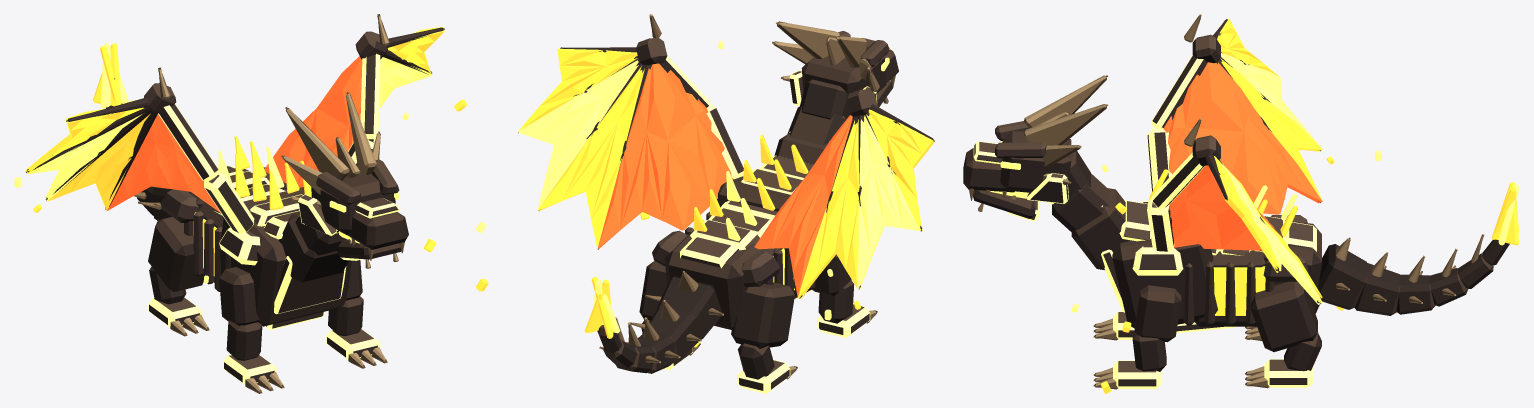
Rendered from BonefireDragon.fbx.
The picture shows the model from 3 angles, left to right: view 1: azimuth 30°, elevation 25°; view 2: azimuth 150°, elevation 25°; view 3: azimuth 270°, elevation 25°; orthographic projection. The views are drawn at different scales.
Visible parts, largest first — view 1: BonefireDragon_Body, BonefireDragon_Glow_ff7c21, BonefireDragon_Glow_cb4519, BonefireDragon_Glow_ffc450, BonefireDragon_Glow_ffb83f; view 2: BonefireDragon_Body, BonefireDragon_Glow_ff7c21, BonefireDragon_Glow_cb4519, BonefireDragon_Glow_ffb83f, BonefireDragon_Glow_ffc450; view 3: BonefireDragon_Body, BonefireDragon_Glow_cb4519, BonefireDragon_Glow_ff7c21, BonefireDragon_Glow_ffc450, BonefireDragon_Glow_ffb83f.
Boxes of the visible parts, x1,y1,x2,y2 form: BonefireDragon_Body: (26,14,444,393); BonefireDragon_Glow_ff7c21: (26,26,488,291); BonefireDragon_Glow_cb4519: (107,56,368,212); BonefireDragon_Glow_ffc450: (148,53,399,384); BonefireDragon_Glow_ffb83f: (14,43,486,283); BonefireDragon_Body: (518,14,934,390); BonefireDragon_Glow_ff7c21: (519,48,934,347); BonefireDragon_Glow_cb4519: (597,63,852,297); BonefireDragon_Glow_ffb83f: (517,41,920,333); BonefireDragon_Glow_ffc450: (663,37,889,393); BonefireDragon_Body: (963,14,1509,389); BonefireDragon_Glow_cb4519: (1163,62,1322,256); BonefireDragon_Glow_ff7c21: (1100,18,1518,393); BonefireDragon_Glow_ffc450: (973,55,1316,388); BonefireDragon_Glow_ffb83f: (990,53,1519,312).
Bounding box in the file's own units: 4.41 × 3.11 × 5.37.
5 materials, 1 textured.
